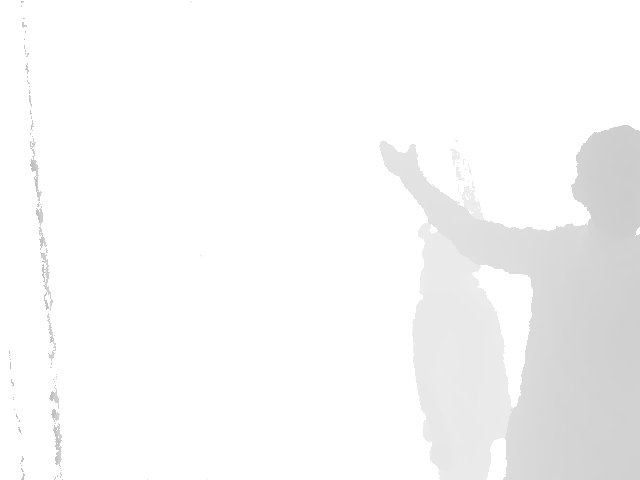hand: (379, 138, 421, 177)
head: (570, 124, 640, 231), (417, 220, 482, 273)
person: (379, 124, 640, 480), (411, 220, 515, 480)
